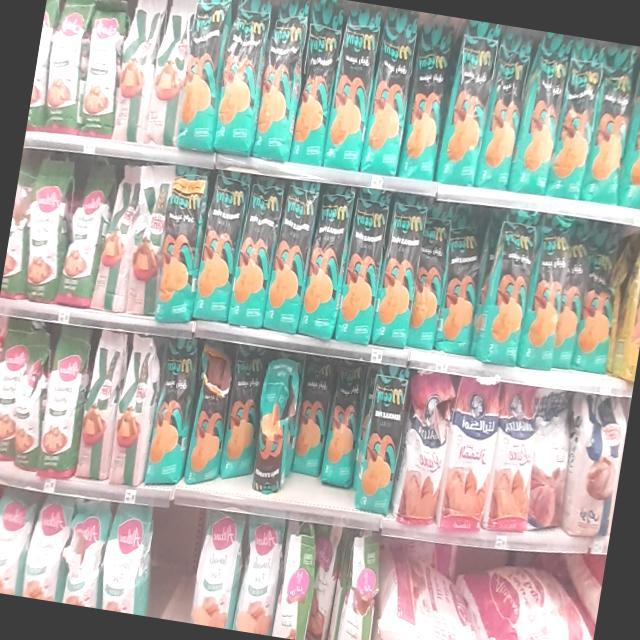produto: (200, 2, 635, 201), (174, 158, 418, 356), (199, 503, 385, 640)
